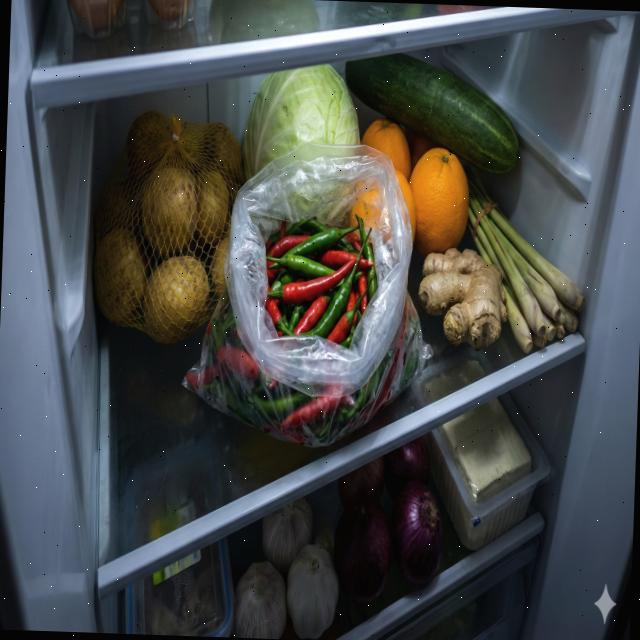cabbage: (242, 60, 363, 187)
chili: (182, 206, 423, 452)
cucumber: (341, 48, 522, 175)
garlic: (233, 492, 342, 640)
ginger: (416, 245, 510, 352)
lemongrass: (463, 180, 588, 354)
onion: (331, 432, 446, 606)
orange: (356, 117, 472, 260)
potato: (90, 108, 248, 348)
tofu: (436, 394, 533, 506)
